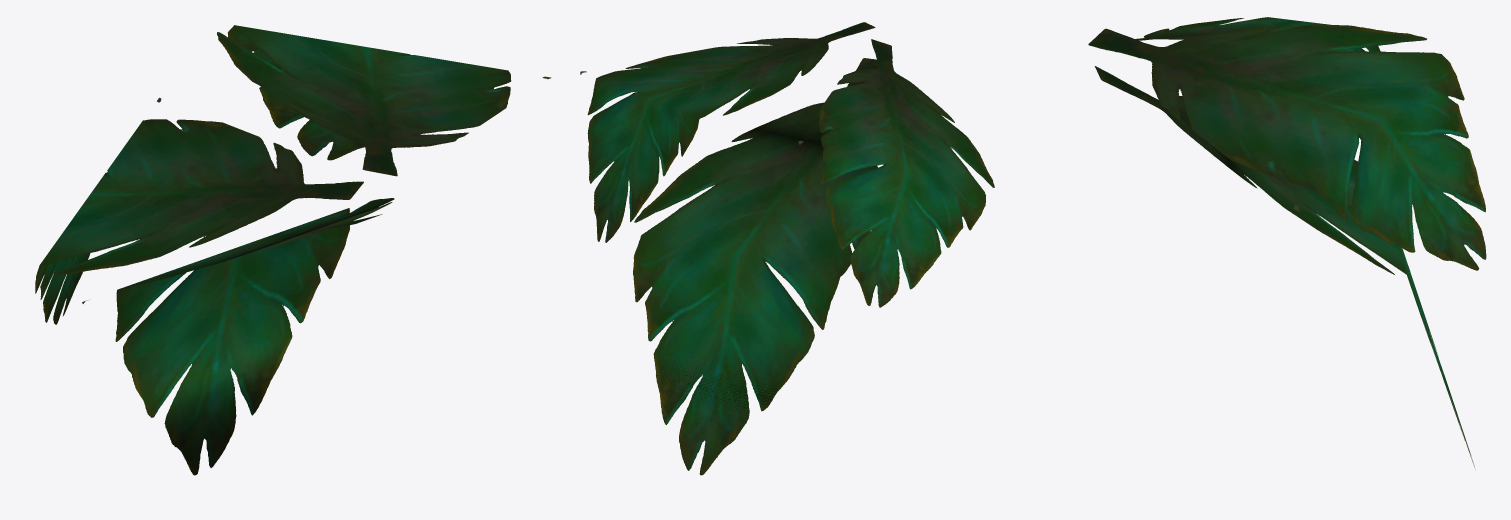
File: sholazar_treeleafa.obj
The picture shows the model from 3 angles, left to right: view 1: azimuth 30°, elevation 25°; view 2: azimuth 150°, elevation 25°; view 3: azimuth 270°, elevation 25°; orthographic projection. The views are drawn at different scales.
Parts seen in each view (by area): view 1: sholazar_treeleafa; view 2: sholazar_treeleafa; view 3: sholazar_treeleafa.
Boxes of the visible parts, left/top/right/bottom form: sholazar_treeleafa: left=35, top=25, right=551, bottom=475; sholazar_treeleafa: left=580, top=22, right=994, bottom=475; sholazar_treeleafa: left=1088, top=17, right=1486, bottom=467.
Size of the model in its own units: 2.29 by 1.96 by 1.68.
Materials: 1 (1 with a texture image).
